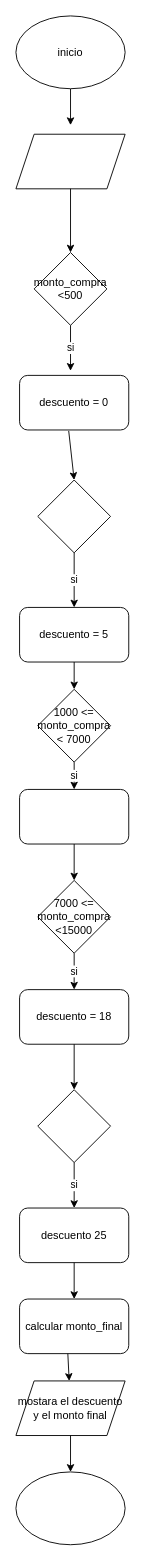
This 145x1561 diagram has some shape labels left out. Here are the shapes that lost their labels. From the top down, the centre of each, then its label:
At point 70,161: "solicitar monto_compra".
At point 74,516: "500 <= monto compra < 1000".
At point 74,816: "descuento = 11".
At point 74,1126: "monto_compra >= 15000".
At point 70,1508: "fin".
